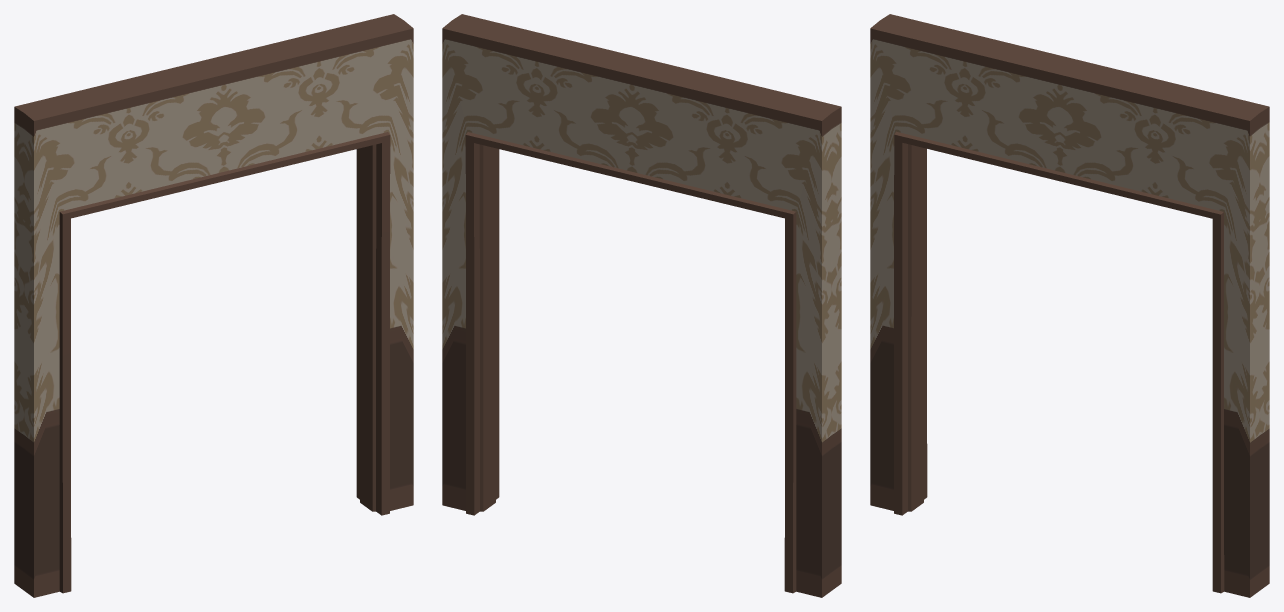
The model's file is WALL DOOR.fbx.
3 views of the same model, side by side, from view 1: azimuth 30°, elevation 25°; view 2: azimuth 150°, elevation 25°; view 3: azimuth 330°, elevation 25° (orthographic).
Visible parts, largest first — view 1: WallDoor; view 2: WallDoor; view 3: WallDoor.
Part boxes in pixels (left/top/right/bottom): WallDoor: left=14, top=14, right=413, bottom=597; WallDoor: left=442, top=14, right=841, bottom=597; WallDoor: left=870, top=14, right=1269, bottom=597.
Size of the model in its own units: 250 by 301 by 28.8.
